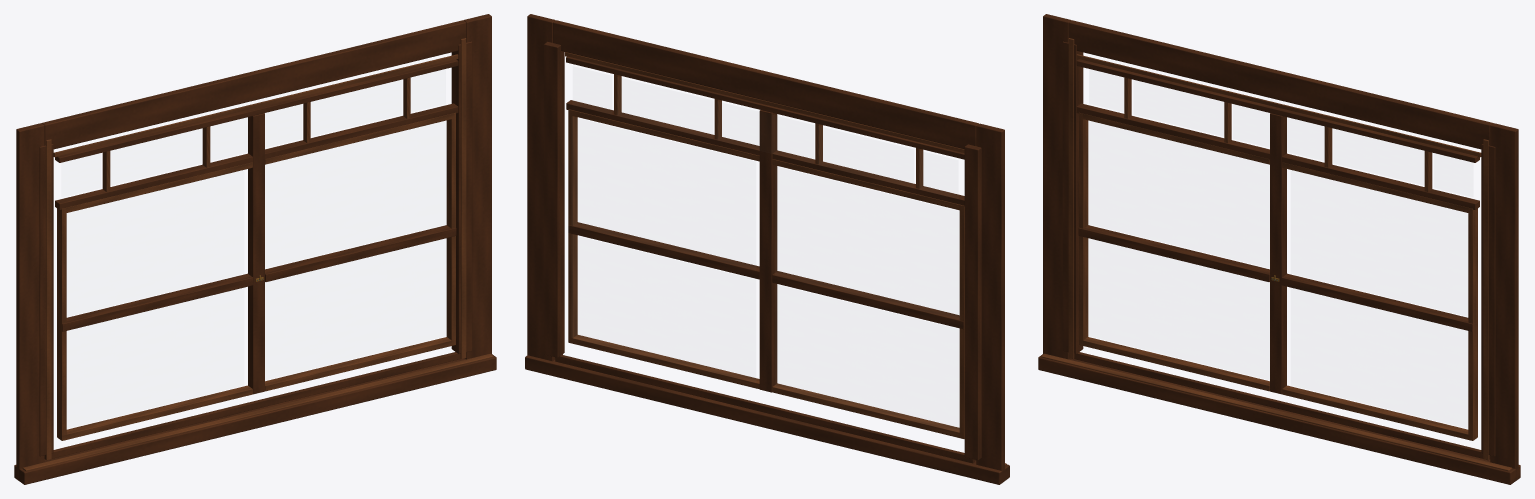
Rendered from asset.glb.
3 renders of one model, left to right at view 1: azimuth 30°, elevation 25°; view 2: azimuth 150°, elevation 25°; view 3: azimuth 330°, elevation 25°, orthographic.
Parts seen in each view (by area): view 1: MaterialBatch_Visual_Director_stained_window_oak, MaterialBatch_Sash_edge_warm_oak; view 2: MaterialBatch_Visual_Director_stained_window_oak, MaterialBatch_Sash_edge_warm_oak; view 3: MaterialBatch_Visual_Director_stained_window_oak, MaterialBatch_Sash_edge_warm_oak.
Boxes of the visible parts, box(x1,y1,x2,y2) form: MaterialBatch_Visual_Director_stained_window_oak: box(14, 14, 496, 484); MaterialBatch_Sash_edge_warm_oak: box(22, 38, 493, 471); MaterialBatch_Visual_Director_stained_window_oak: box(525, 14, 1009, 484); MaterialBatch_Sash_edge_warm_oak: box(562, 52, 1006, 465); MaterialBatch_Visual_Director_stained_window_oak: box(1038, 14, 1520, 484); MaterialBatch_Sash_edge_warm_oak: box(1041, 38, 1512, 471).
Size of the model in its own units: 96 by 68 by 4.1.
5 materials, 5 textured.
